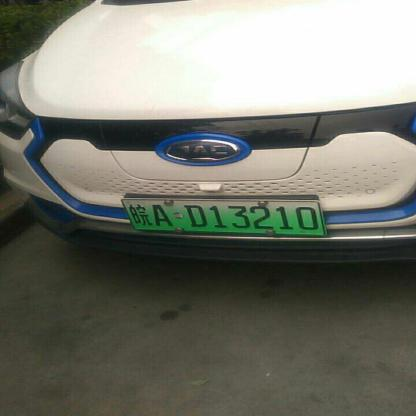lp: (122, 200, 323, 234)
